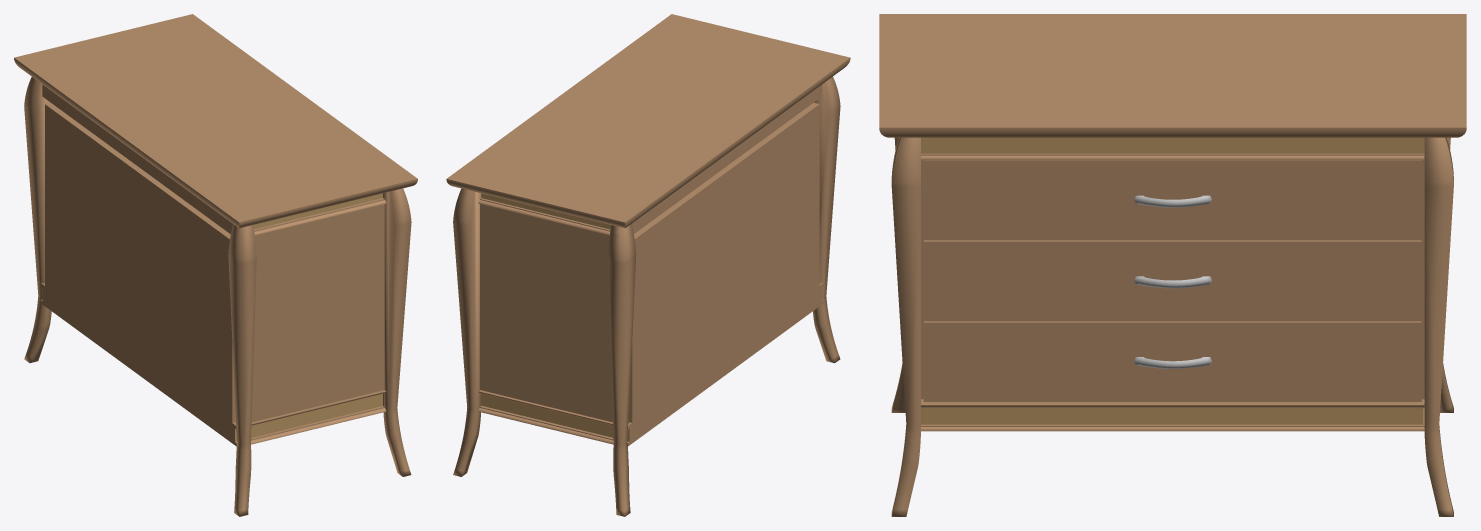
File: comoda-verdicchio.glb
The picture shows the model from 3 angles, left to right: view 1: azimuth 30°, elevation 25°; view 2: azimuth 150°, elevation 25°; view 3: azimuth 270°, elevation 25°; orthographic projection. The views are drawn at different scales.
Size of the model in its own units: 0.55 by 0.88 by 1.2.
